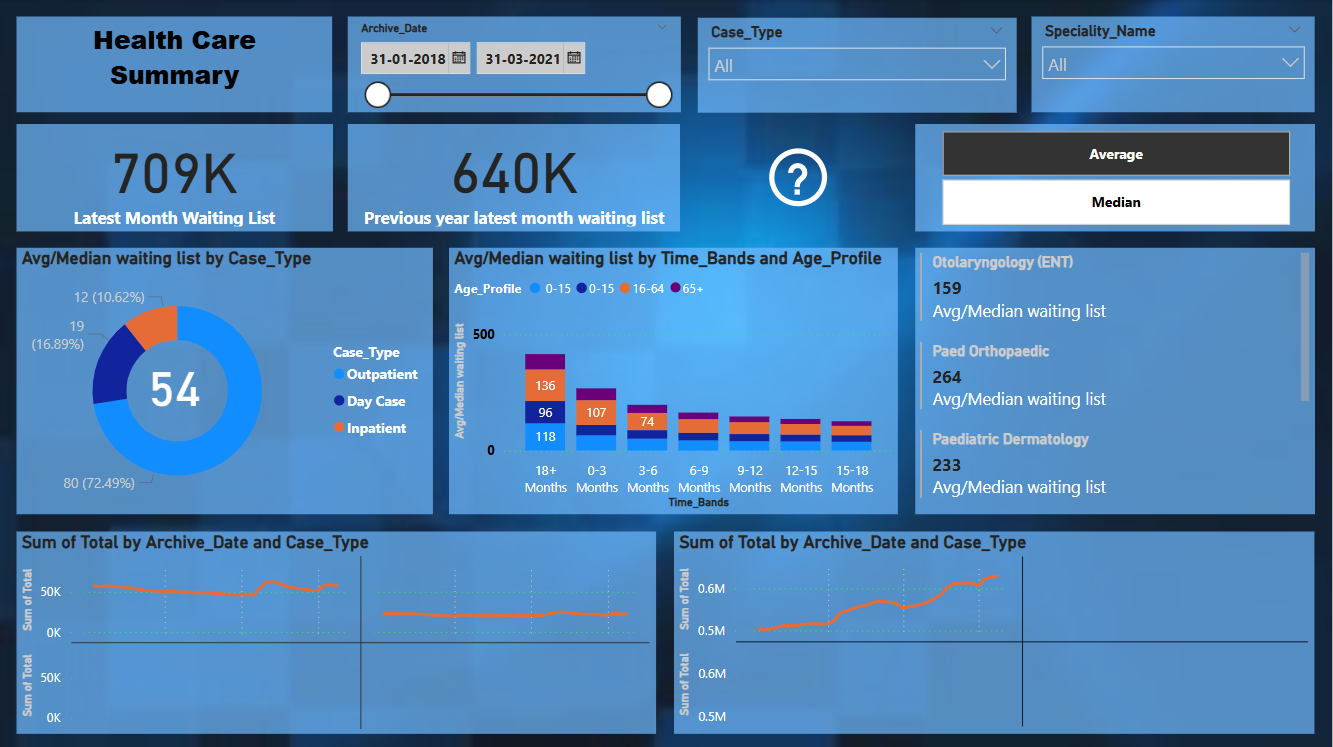

The dashboard page shown, as its layout file describes it:
{"tool":"powerbi","page":{"name":"Healthcare_Dashboard","canvas":[1280,720],"ordinal":0},"visuals":[{"type":"card","fields":{"Values":["Patient_data.Latest Month Waiting List"]},"box":[16.8,120.1,303.8,103.3],"z":0},{"type":"card","fields":{"Values":["Patient_data.py latest month waiting list"]},"box":[335,120.1,319.4,103.3],"z":1000},{"type":"slicer","fields":{"Values":["Calculation_Table.Calculation_method"]},"box":[880.2,119.8,383.7,103.5],"z":2000},{"type":"donutChart","fields":{"Category":["Patient_data.Case_Type"],"Y":["Patient_data.Avg/Median waiting list"]},"box":[16.3,239.5,400,255.8],"z":3000},{"type":"columnChart","fields":{"Category":["Patient_data.Time_Bands"],"Y":["Patient_data.Avg/Median waiting list"],"Series":["Patient_data.Age_Profile"]},"box":[432.6,239.5,431.4,255.8],"z":4000},{"type":"multiRowCard","fields":{"Values":["Patient_data.Speciality_Name","Patient_data.Avg/Median waiting list"]},"box":[880.2,239.5,383.7,255.8],"z":5000},{"type":"card","fields":{"Values":["Patient_data.No selection"]},"box":[67.4,564,541.9,54.7],"z":6000},{"type":"lineChart","fields":{"Category":["Patient_data.Archive_Date"],"Y":["Sum(Patient_data.Total)"],"Rows":["Patient_data.Case_Type"]},"box":[16.8,511.5,614.8,194.5],"z":7000},{"type":"card","fields":{"Values":["Patient_data.No selection Right"]},"box":[707,564,541.9,54.7],"z":8000},{"type":"lineChart","fields":{"Category":["Patient_data.Archive_Date"],"Y":["Sum(Patient_data.Total)"],"Rows":["Patient_data.Case_Type"]},"box":[648.8,511.6,615.1,194.2],"z":9000},{"type":"slicer","fields":{"Values":["Patient_data.Archive_Date"]},"box":[334.9,16.3,319.8,91.9],"z":10000},{"type":"textbox","box":[16.3,16.3,303.5,91.9],"z":11000},{"type":"card","fields":{"Values":["Patient_data.Avg/Median waiting list"]},"box":[131.4,350,74.4,62.8],"z":12000},{"type":"slicer","fields":{"Values":["Patient_data.Speciality_Name"]},"box":[991.9,16.3,272.1,91.9],"z":13000},{"type":"actionButton","box":[733.7,135.7,99.7,70.8],"z":15000},{"type":"slicer","fields":{"Values":["Patient_data.Case_Type"]},"box":[671.2,18,306.2,91.3],"z":15001}]}

Visuals, with their boxes in screenshot pixels (x1, y1, x2, y2), scaled from the page's 1280x720 canvas onto the 1333x747 screenshot:
card - Patient_data.Latest Month Waiting List: 17:125:334:232
card - Patient_data.py latest month waiting list: 349:125:681:232
slicer - Calculation_Table.Calculation_method: 917:124:1316:232
donutChart - Patient_data.Case_Type x Patient_data.Avg/Median waiting list: 17:248:434:514
columnChart - Patient_data.Time_Bands x Patient_data.Avg/Median waiting list: 451:248:900:514
multiRowCard - Patient_data.Speciality_Name x Patient_data.Avg/Median waiting list: 917:248:1316:514
card - Patient_data.No selection: 70:585:635:642
lineChart - Patient_data.Archive_Date x Sum(Patient_data.Total): 17:531:658:732
card - Patient_data.No selection Right: 736:585:1301:642
lineChart - Patient_data.Archive_Date x Sum(Patient_data.Total): 676:531:1316:732
slicer - Patient_data.Archive_Date: 349:17:682:112
textbox: 17:17:333:112
card - Patient_data.Avg/Median waiting list: 137:363:214:428
slicer - Patient_data.Speciality_Name: 1033:17:1316:112
actionButton: 764:141:868:214
slicer - Patient_data.Case_Type: 699:19:1018:113
